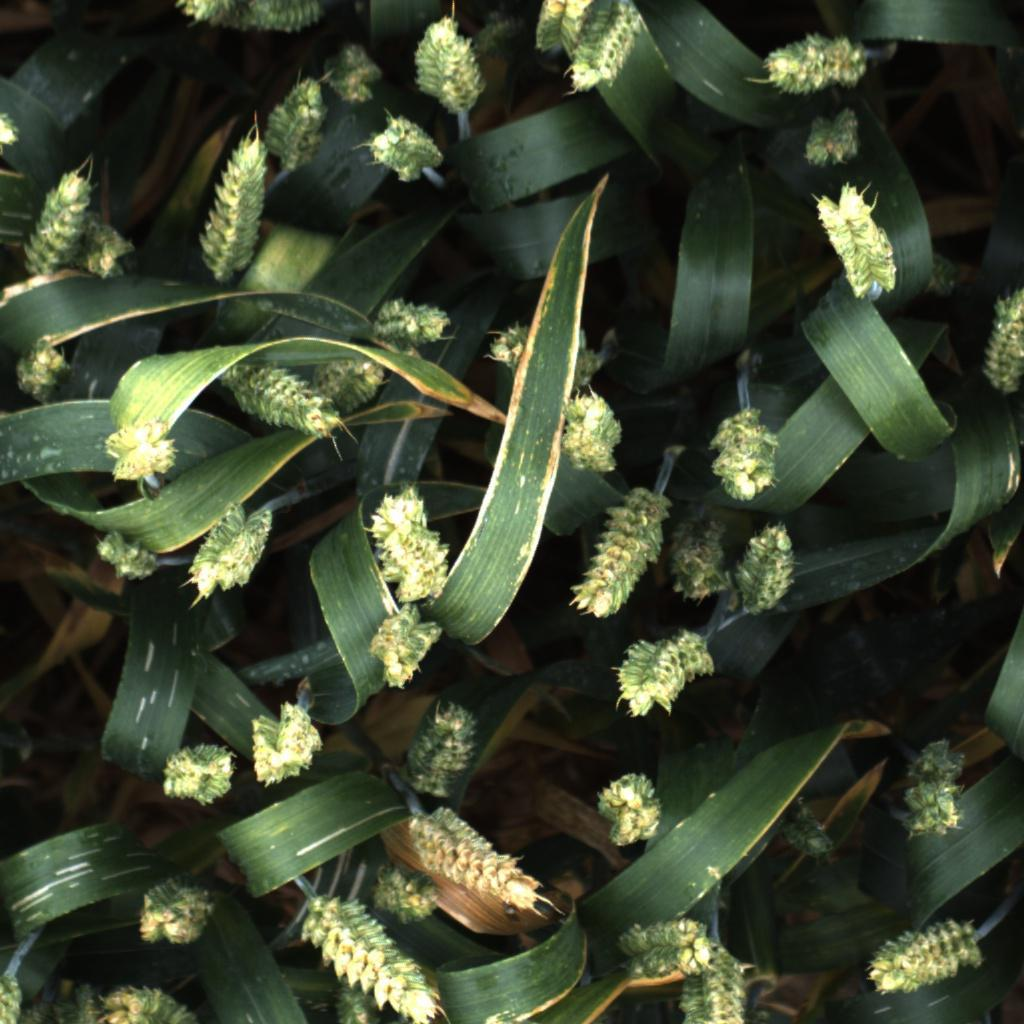0-0: (293, 879, 443, 1024), (563, 477, 675, 619), (415, 810, 547, 916), (192, 126, 270, 284), (807, 179, 903, 298), (860, 914, 991, 1000), (482, 314, 609, 394), (609, 630, 720, 720), (366, 487, 453, 594), (413, 4, 493, 119), (189, 503, 279, 599), (897, 733, 978, 839), (759, 21, 864, 100), (563, 1, 651, 95), (408, 693, 487, 796), (225, 365, 330, 441), (23, 169, 92, 280), (711, 403, 788, 500), (245, 698, 325, 790), (365, 596, 444, 687), (266, 65, 333, 172), (591, 767, 673, 849), (615, 912, 716, 978), (755, 781, 837, 862), (72, 205, 148, 291), (553, 386, 623, 477), (665, 518, 732, 613), (162, 732, 239, 814), (102, 410, 183, 487), (138, 871, 218, 947), (674, 948, 754, 1024), (735, 524, 803, 613), (171, 0, 330, 38), (373, 114, 448, 187), (974, 283, 1024, 392), (18, 968, 114, 1024), (374, 293, 460, 352), (7, 336, 77, 404), (0, 271, 104, 315), (368, 862, 439, 926), (797, 104, 865, 168), (116, 975, 204, 1024), (322, 40, 387, 104), (318, 354, 385, 414), (92, 528, 160, 586), (528, 0, 597, 50), (916, 240, 965, 309), (0, 972, 23, 1024), (0, 102, 17, 157)
